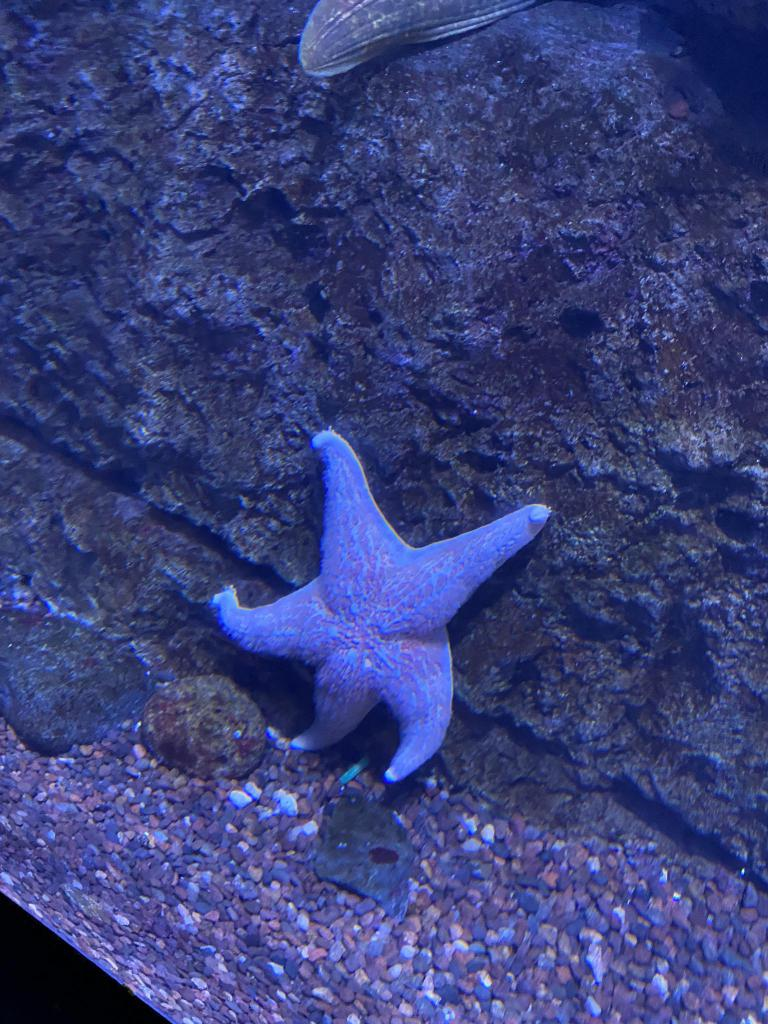starfish: (210, 431, 548, 781)
